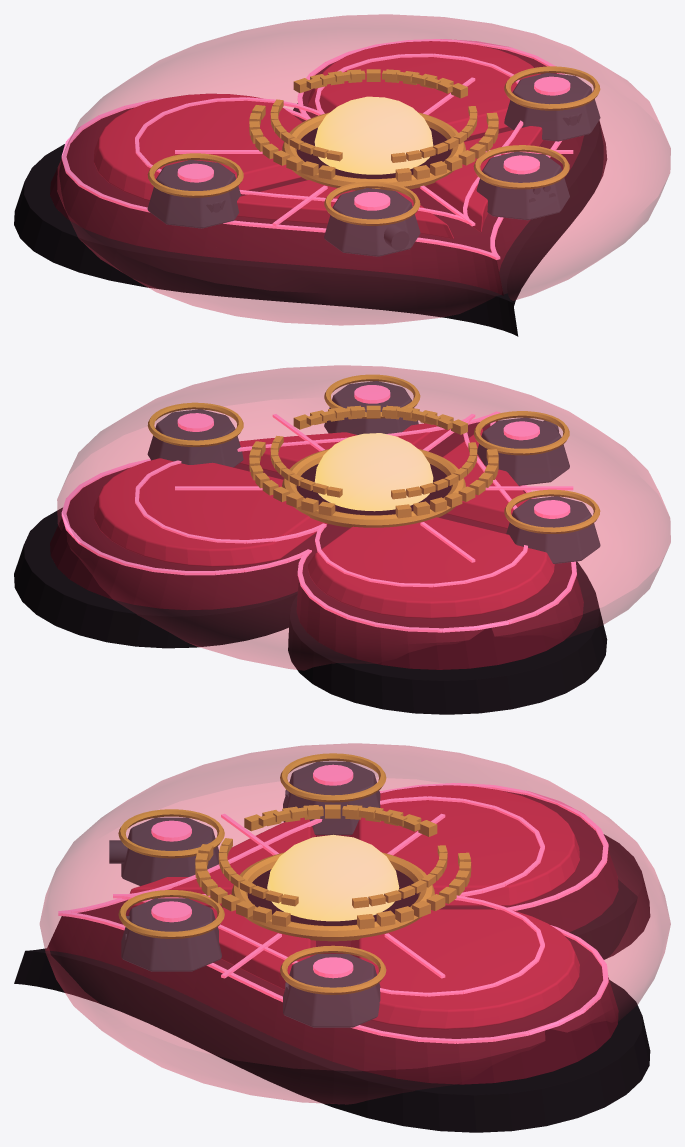
File: warden.glb
The picture shows the model from 3 angles, top to bottom: view 1: azimuth 30°, elevation 25°; view 2: azimuth 150°, elevation 25°; view 3: azimuth 270°, elevation 25°; orthographic projection. The views are drawn at different scales.
Visible parts, largest first — view 1: warden_shield, warden_base, warden_hull, warden_plate_ul, warden_plate_ur, core, warden_ring_outer_mesh, pod_0_housing, pod_3_housing, pod_1_housing, pod_2_housing, warden_seam_1 (+16 smaller); view 2: warden_shield, warden_base, warden_hull, warden_plate_ul, warden_plate_ur, core, warden_ring_outer_mesh, warden_seam_1, pod_0_housing, warden_ring_inner_mesh, pod_2_housing, pod_1_housing (+15 smaller); view 3: warden_shield, warden_base, warden_hull, warden_plate_ur, warden_plate_ul, core, warden_ring_outer_mesh, pod_3_housing, warden_seam_1, pod_1_housing, warden_ring_inner_mesh, warden_seam_2 (+15 smaller).
Boxes of the visible parts, x1=… form: warden_shield: x1=57, y1=14, x2=670, y2=325; warden_base: x1=14, y1=103, x2=606, y2=336; warden_hull: x1=50, y1=46, x2=583, y2=295; warden_plate_ul: x1=93, y1=93, x2=302, y2=200; warden_plate_ur: x1=308, y1=41, x2=540, y2=136; core: x1=314, y1=96, x2=433, y2=174; warden_ring_outer_mesh: x1=249, y1=69, x2=498, y2=181; pod_0_housing: x1=147, y1=160, x2=241, y2=228; pod_3_housing: x1=476, y1=151, x2=569, y2=220; pod_1_housing: x1=504, y1=73, x2=600, y2=141; pod_2_housing: x1=324, y1=188, x2=420, y2=256; warden_seam_1: x1=61, y1=39, x2=564, y2=259; warden_shield: x1=57, y1=365, x2=670, y2=670; warden_base: x1=14, y1=507, x2=607, y2=714; warden_hull: x1=50, y1=421, x2=583, y2=669; warden_plate_ul: x1=308, y1=517, x2=554, y2=618; warden_plate_ur: x1=93, y1=458, x2=327, y2=566; core: x1=314, y1=433, x2=433, y2=511; warden_ring_outer_mesh: x1=249, y1=405, x2=498, y2=518; warden_seam_1: x1=61, y1=411, x2=576, y2=632; pod_0_housing: x1=506, y1=496, x2=600, y2=563; warden_ring_inner_mesh: x1=270, y1=406, x2=477, y2=499; pod_2_housing: x1=477, y1=417, x2=569, y2=485; pod_1_housing: x1=147, y1=409, x2=243, y2=467; warden_shield: x1=40, y1=743, x2=670, y2=1104; warden_base: x1=14, y1=834, x2=650, y2=1132; warden_hull: x1=46, y1=791, x2=618, y2=1084; warden_plate_ur: x1=350, y1=909, x2=579, y2=1029; warden_plate_ul: x1=350, y1=785, x2=579, y2=906; core: x1=267, y1=834, x2=399, y2=921; warden_ring_outer_mesh: x1=195, y1=804, x2=471, y2=929; pod_3_housing: x1=121, y1=898, x2=221, y2=971; warden_seam_1: x1=58, y1=783, x2=608, y2=1043; pod_1_housing: x1=283, y1=954, x2=380, y2=1027; warden_ring_inner_mesh: x1=218, y1=806, x2=447, y2=908; warden_seam_2: x1=122, y1=796, x2=544, y2=996.
Size of the model in its own units: 19.2 by 6.4 by 17.89.
